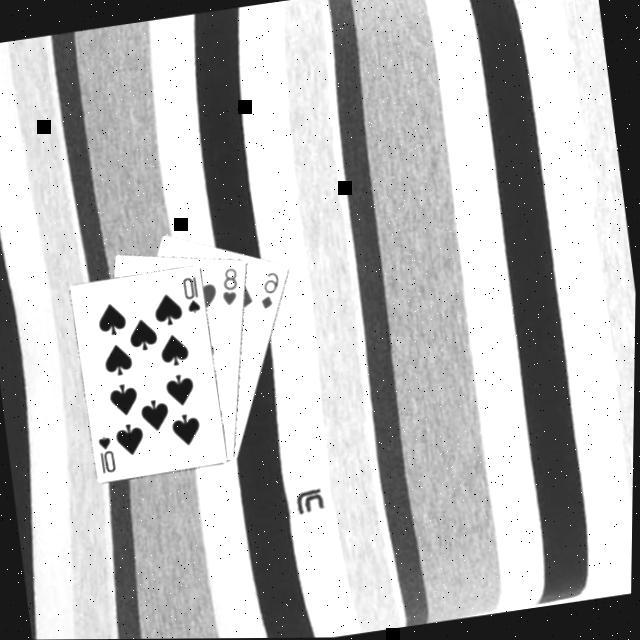10S: (178, 272, 206, 316), (94, 429, 120, 475)
6D: (254, 266, 286, 311)
8H: (215, 262, 245, 307)
